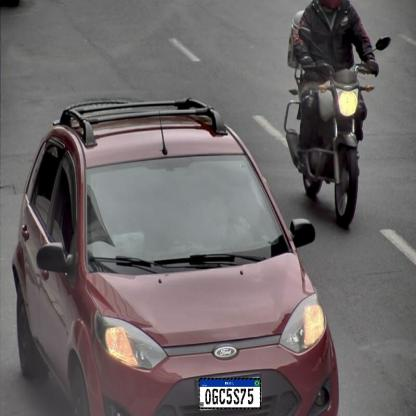PlacaM: (199, 378, 261, 409)
